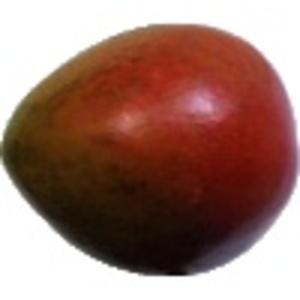manga: (1, 22, 300, 276)
